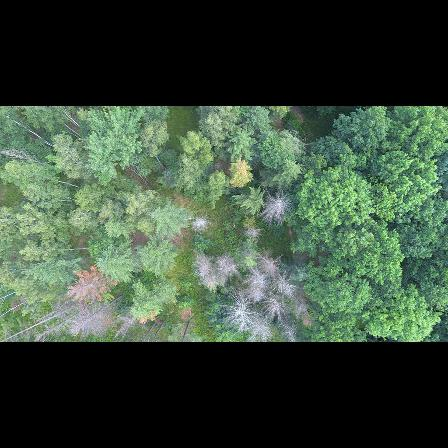Dead: (12, 306, 76, 339), (75, 295, 126, 332), (259, 194, 294, 226), (221, 292, 253, 327), (245, 312, 274, 341), (189, 208, 214, 238), (272, 272, 300, 296), (192, 252, 216, 278), (242, 286, 270, 306), (262, 298, 285, 321), (279, 317, 299, 342), (215, 256, 239, 276), (246, 273, 269, 289), (240, 225, 264, 240), (262, 257, 282, 274)
